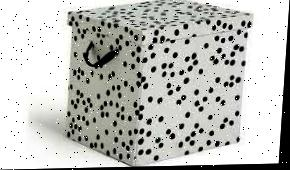cube: (63, 0, 251, 169)
